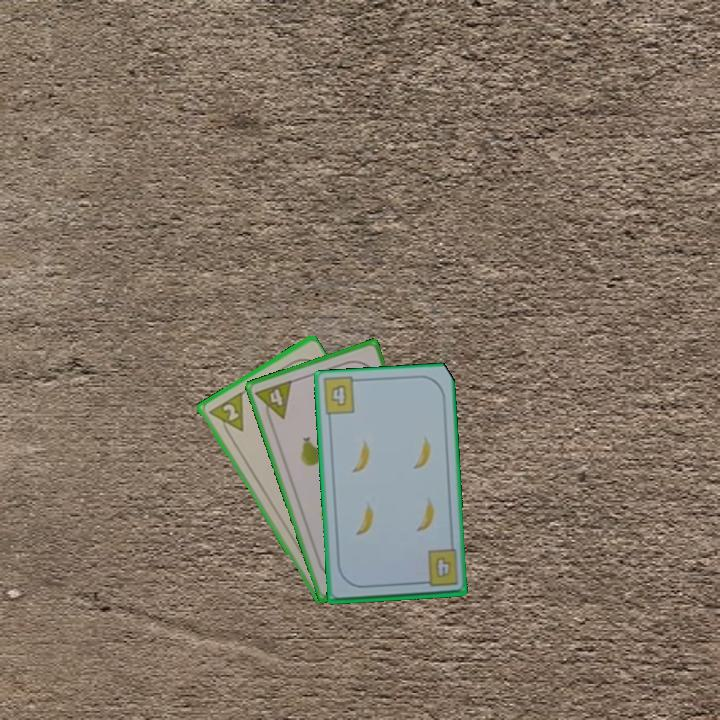2p: (204, 388, 247, 441)
4b: (417, 547, 460, 589), (327, 381, 350, 409)
4p: (251, 376, 295, 426)
